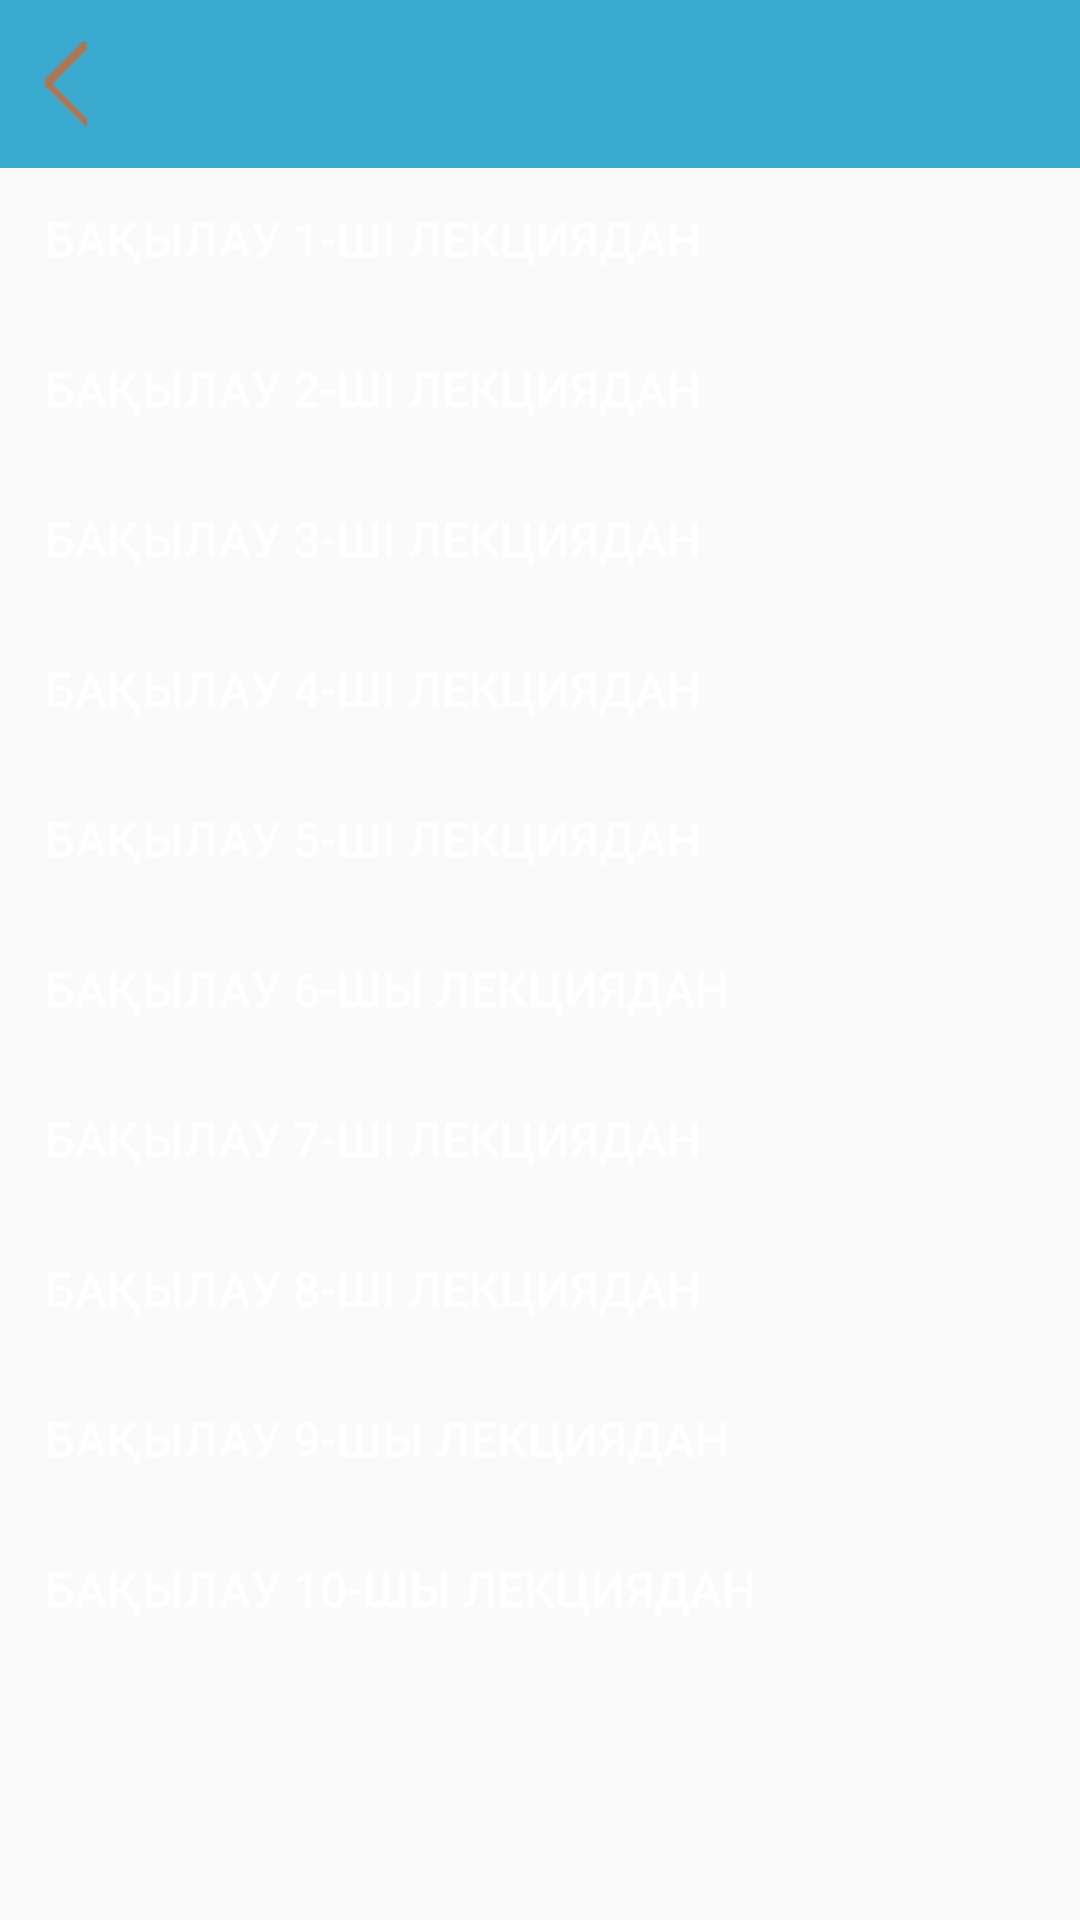

Where to tap for icons on this 1080 x 1920 app screen, as (x=x, y=y):
back: (x=66, y=84)
